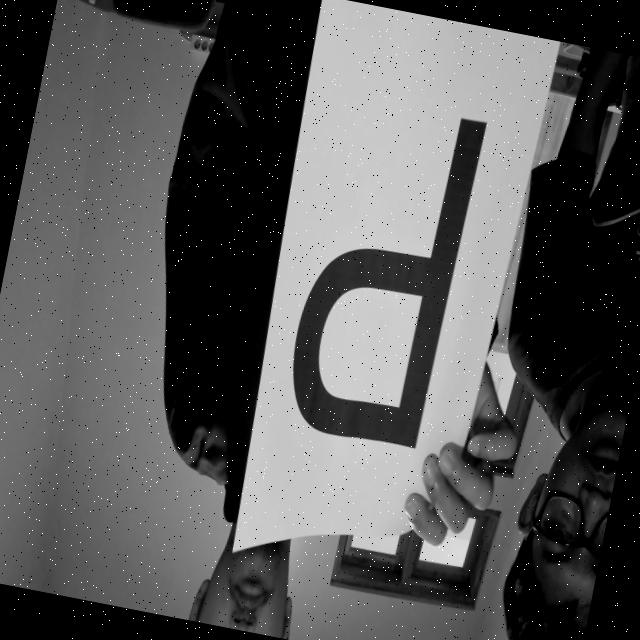p: (264, 72, 501, 467)
